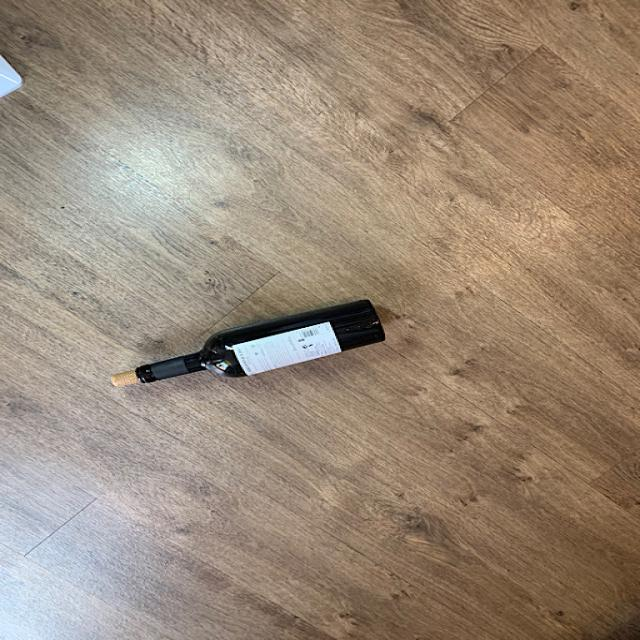litter: (135, 294, 387, 387)
